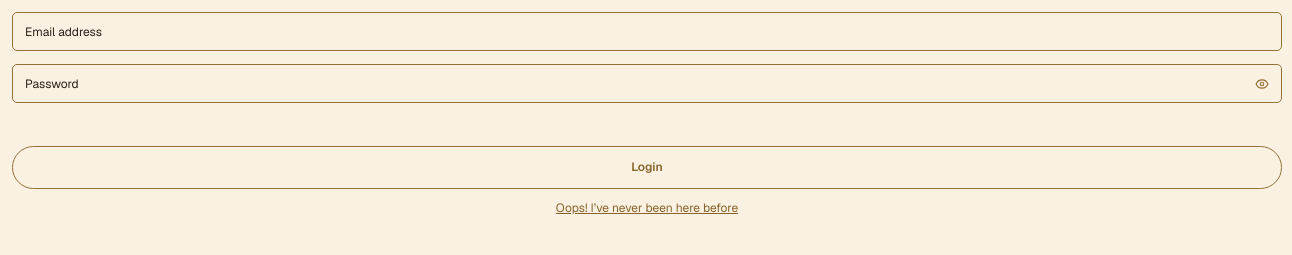
it: AuthForm › shows a recoverable message when the service is unavailable
In the field labelled "Email": (647, 32) [12,12,1282,51], type "reader@example.com"
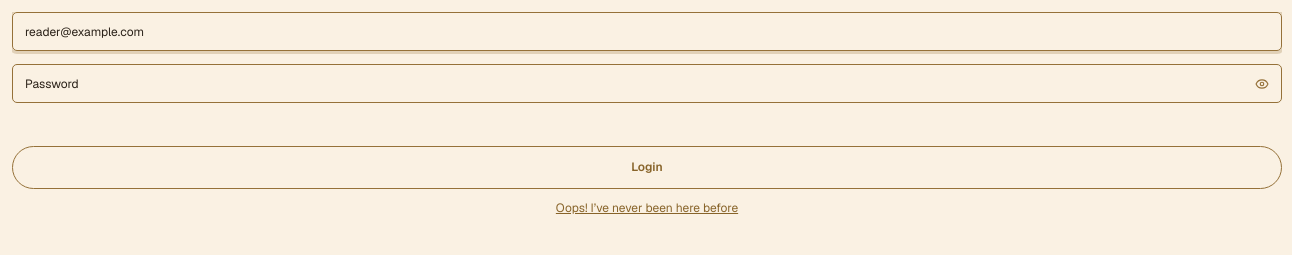
In the password field labelled "Password": (647, 84) [12,64,1282,103], type "a-secure-password"
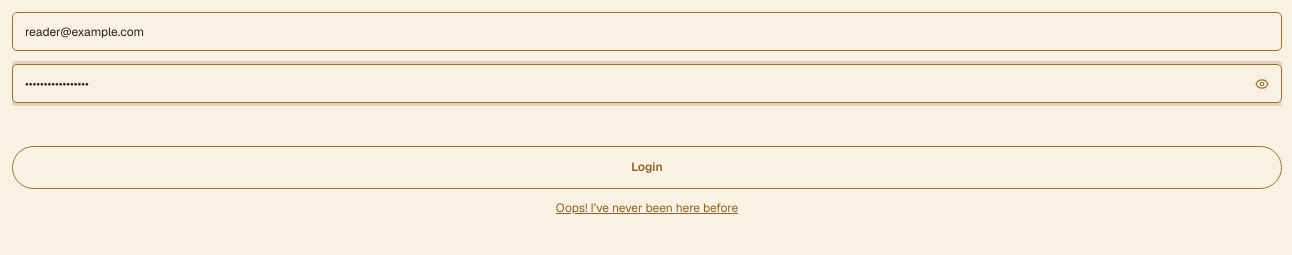
Click the button "Login": (647, 168) [12,146,1282,189]
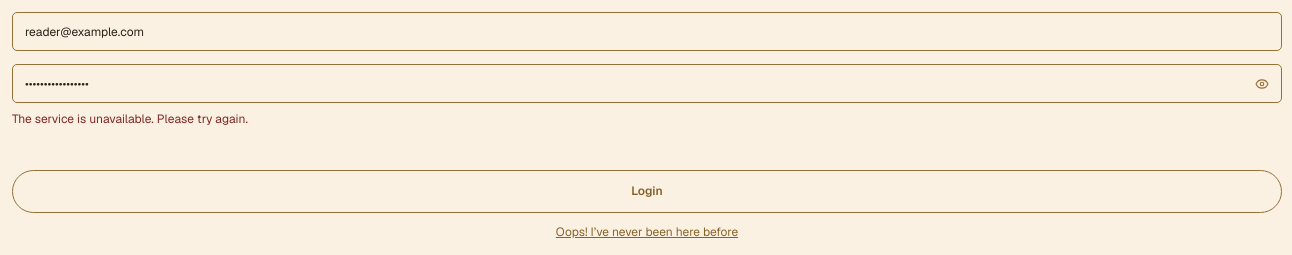
Now the text "The service is unavailable. Please try again." is shown, box [12,111,248,127]
